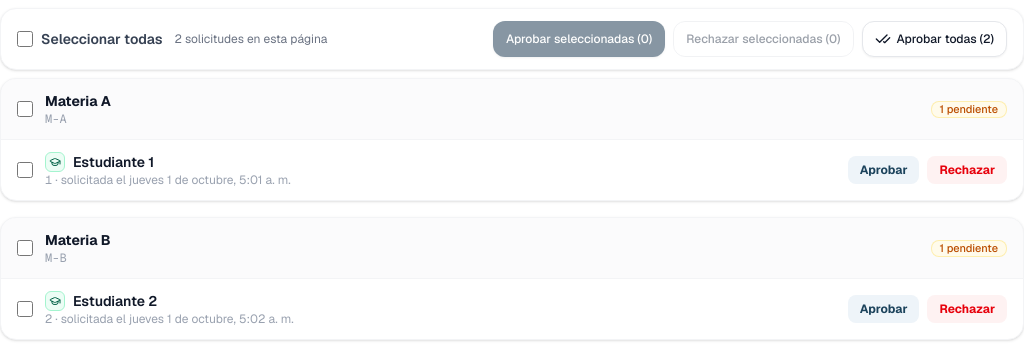
EnrollmentRequestsBoard › selects and clears the whole page
Click the checkbox named "de esta página". click: [25, 39]
box: [17,31,33,47]
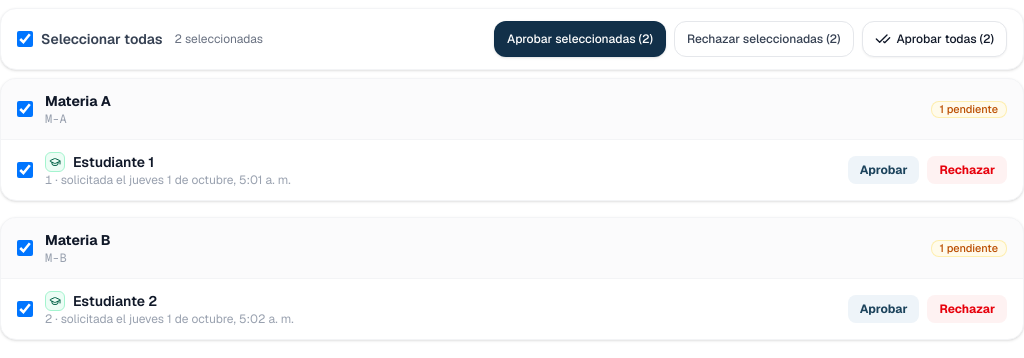
Expected: the checkbox named "de esta página" is checked
Expected: the text "2 seleccionadas" is shown, [174,31,263,47]
Click the checkbox named "de esta página". click: [25, 39]
box: [17,31,33,47]
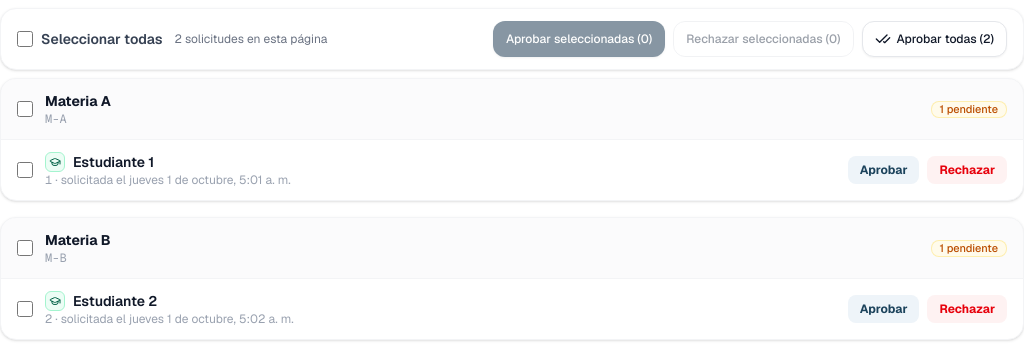
Expected: the text "2 solicitudes en esta página" is shown, [174,31,327,47]
